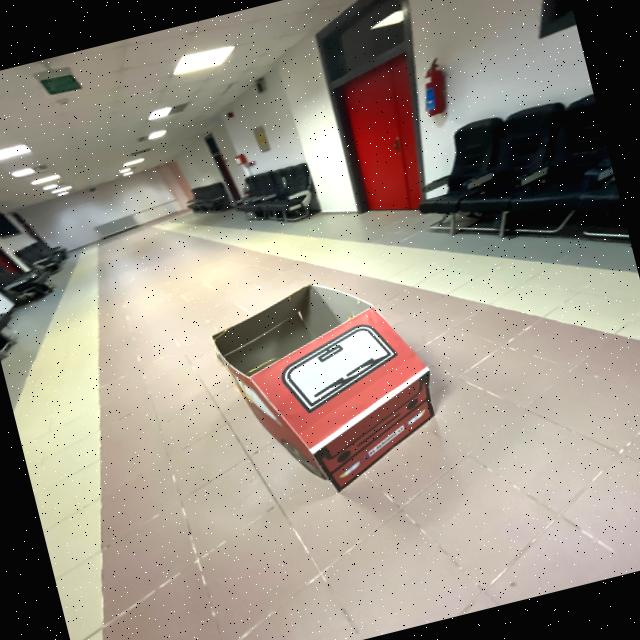red_car: (179, 244, 478, 528)
